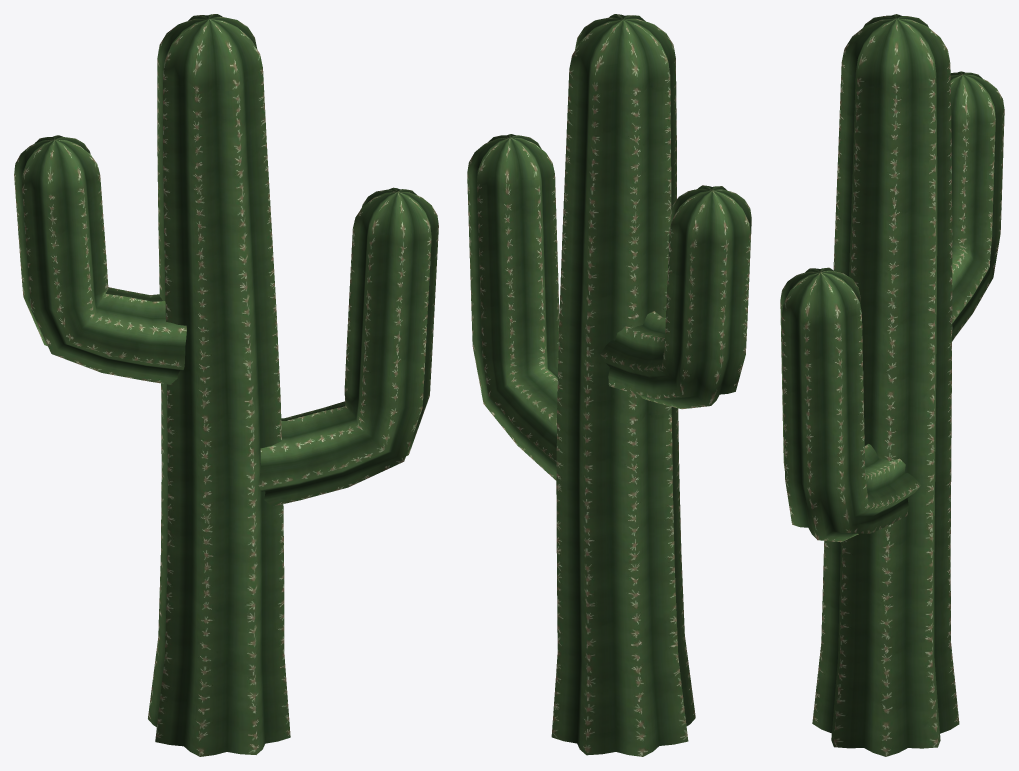
File: cactus_saguaro.glb
3 renders of one model, left to right at view 1: azimuth 30°, elevation 25°; view 2: azimuth 150°, elevation 25°; view 3: azimuth 270°, elevation 25°, orthographic.
Parts seen in each view (by area): view 1: prop; view 2: prop; view 3: prop.
Boxes of the visible parts, x1,y1,x2,y2 form: prop: [14, 14, 438, 756]; prop: [467, 14, 751, 756]; prop: [780, 14, 1004, 756].
Bounding box in the file's own units: 0.7548 × 1.5 × 0.4319.
Materials: 1 (1 with a texture image).
